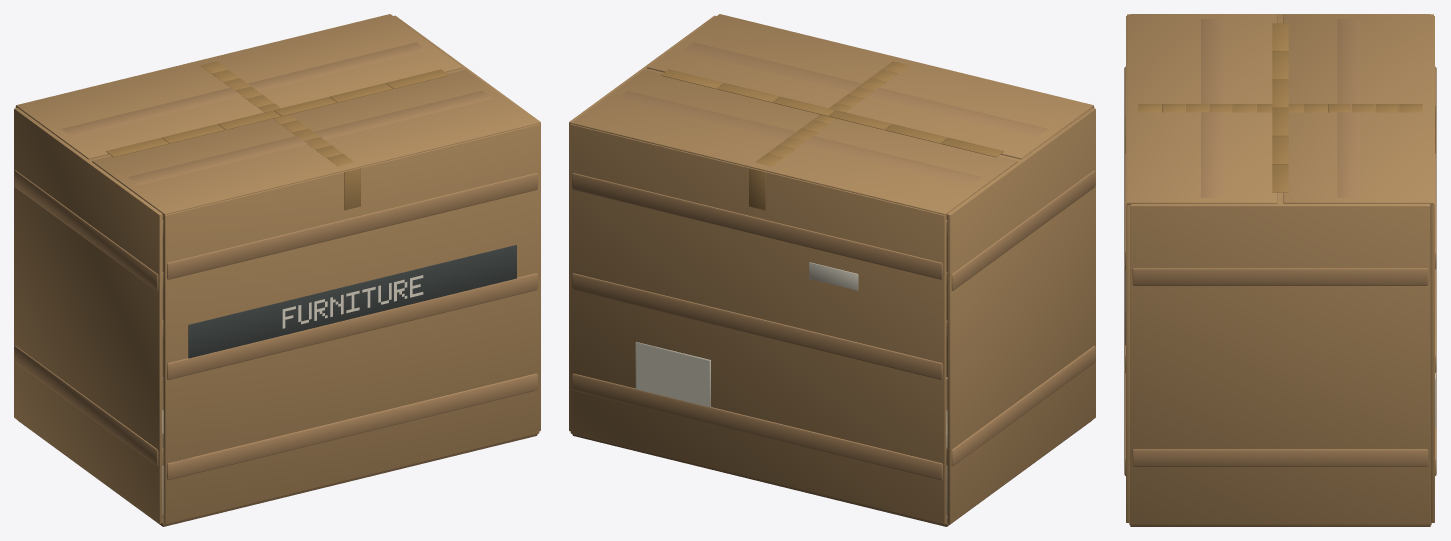
File: delivery_furniture_crate.glb
The picture shows the model from 3 angles, left to right: view 1: azimuth 30°, elevation 25°; view 2: azimuth 150°, elevation 25°; view 3: azimuth 270°, elevation 25°; orthographic projection. The views are drawn at different scales.
Parts seen in each view (by area): view 1: BOX_FRONT, BOX_LEFT, FLAP_TOP_FRONT, FLAP_TOP_BACK, LABEL_MAIN, CRATE_FRONT_BATTEN_03, CRATE_FRONT_BATTEN_01, CRATE_FRONT_BATTEN_02, CRATE_TOP_BATTEN_01, CRATE_TOP_BATTEN_02, CRATE_LEFT_BATTEN_02, CRATE_LEFT_BATTEN_01 (+5 smaller); view 2: BOX_BACK, BOX_LEFT, FLAP_TOP_BACK, FLAP_TOP_FRONT, CRATE_BACK_BATTEN_02, CRATE_BACK_BATTEN_03, CRATE_BACK_BATTEN_01, CRATE_TOP_BATTEN_02, CRATE_TOP_BATTEN_01, LABEL_DYNAMIC, CRATE_LEFT_BATTEN_02, CRATE_LEFT_BATTEN_01 (+5 smaller); view 3: BOX_RIGHT, FLAP_TOP_BACK, FLAP_TOP_FRONT, CRATE_RIGHT_BATTEN_01, CRATE_RIGHT_BATTEN_02, CRATE_TOP_BATTEN_01, CRATE_TOP_BATTEN_02, TAPE_CENTER, BOX_BACK, BOX_FRONT, FLAT_PANEL_BASE, BOX_BASE (+9 smaller).
Boxes of the visible parts, left/top/right/bottom form: BOX_FRONT: left=163, top=124, right=539, bottom=524; BOX_LEFT: left=14, top=108, right=162, bottom=523; FLAP_TOP_FRONT: left=92, top=69, right=538, bottom=215; FLAP_TOP_BACK: left=16, top=14, right=462, bottom=159; LABEL_MAIN: left=188, top=245, right=516, bottom=358; CRATE_FRONT_BATTEN_03: left=167, top=173, right=537, bottom=279; CRATE_FRONT_BATTEN_01: left=167, top=373, right=537, bottom=480; CRATE_FRONT_BATTEN_02: left=167, top=273, right=537, bottom=379; CRATE_TOP_BATTEN_01: left=128, top=90, right=492, bottom=185; CRATE_TOP_BATTEN_02: left=62, top=42, right=427, bottom=136; CRATE_LEFT_BATTEN_02: left=14, top=170, right=163, bottom=290; CRATE_LEFT_BATTEN_01: left=14, top=345, right=163, bottom=466; BOX_BACK: left=570, top=124, right=946, bottom=524; BOX_LEFT: left=947, top=108, right=1095, bottom=523; FLAP_TOP_BACK: left=571, top=69, right=1017, bottom=215; FLAP_TOP_FRONT: left=647, top=14, right=1093, bottom=159; CRATE_BACK_BATTEN_02: left=572, top=273, right=942, bottom=379; CRATE_BACK_BATTEN_03: left=572, top=173, right=942, bottom=279; CRATE_BACK_BATTEN_01: left=572, top=373, right=942, bottom=480; CRATE_TOP_BATTEN_02: left=617, top=90, right=981, bottom=185; CRATE_TOP_BATTEN_01: left=682, top=42, right=1047, bottom=136; LABEL_DYNAMIC: left=636, top=343, right=709, bottom=407; CRATE_LEFT_BATTEN_02: left=946, top=170, right=1095, bottom=290; CRATE_LEFT_BATTEN_01: left=946, top=345, right=1095, bottom=466; BOX_RIGHT: left=1130, top=204, right=1430, bottom=524; FLAP_TOP_BACK: left=1283, top=14, right=1433, bottom=204; FLAP_TOP_FRONT: left=1127, top=14, right=1277, bottom=204; CRATE_RIGHT_BATTEN_01: left=1132, top=449, right=1428, bottom=466; CRATE_RIGHT_BATTEN_02: left=1132, top=268, right=1428, bottom=285; CRATE_TOP_BATTEN_01: left=1201, top=19, right=1223, bottom=197; CRATE_TOP_BATTEN_02: left=1337, top=19, right=1359, bottom=197; TAPE_CENTER: left=1138, top=104, right=1422, bottom=112; BOX_BACK: left=1430, top=16, right=1434, bottom=522; BOX_FRONT: left=1126, top=16, right=1130, bottom=522; FLAT_PANEL_BASE: left=1129, top=522, right=1431, bottom=525; BOX_BASE: left=1130, top=525, right=1430, bottom=526.
Size of what is drawn, in the model's own units: 1.26 by 0.9862 by 0.858.
